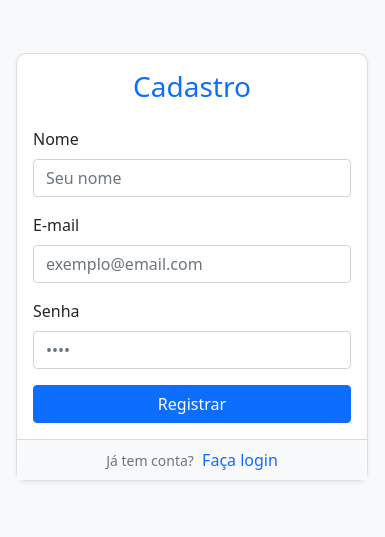
Test: telas de autenticação › renderiza o erro devolvido pela API no registro
Type "Maria" into the field with id "nome" at [192, 178], box [33, 159, 351, 197]
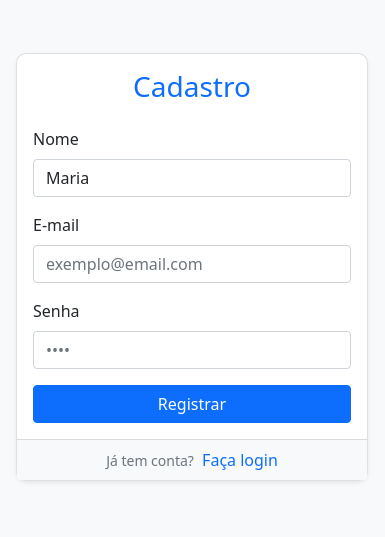
Type "maria@example.com" into the field with id "email" at [192, 264], box [33, 245, 351, 283]
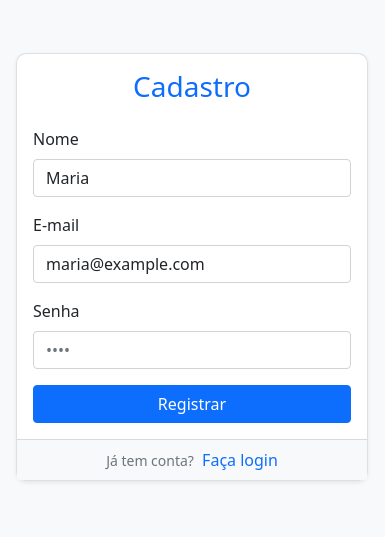
Type "senha" into the password field with id "senha" at [192, 350], box [33, 331, 351, 369]
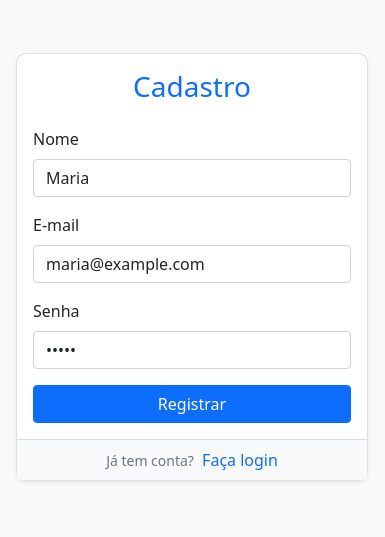
Submit the form, box [33, 127, 351, 423]
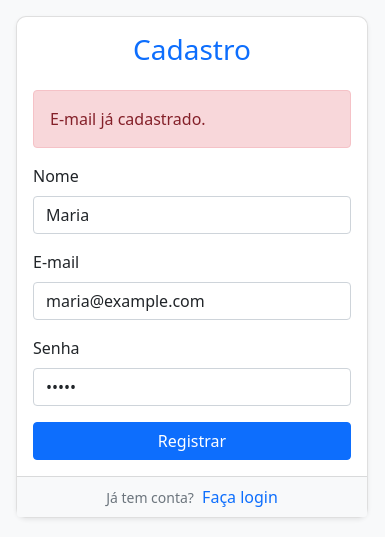
Expected: the message "E-mail já cadastrado." is shown, [33, 90, 351, 148]
